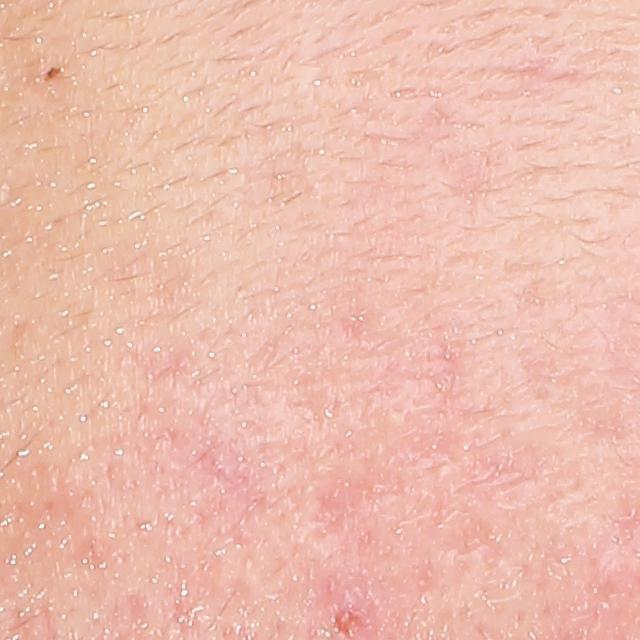nevus: (43, 65, 66, 82)
papule: (335, 604, 367, 635)
